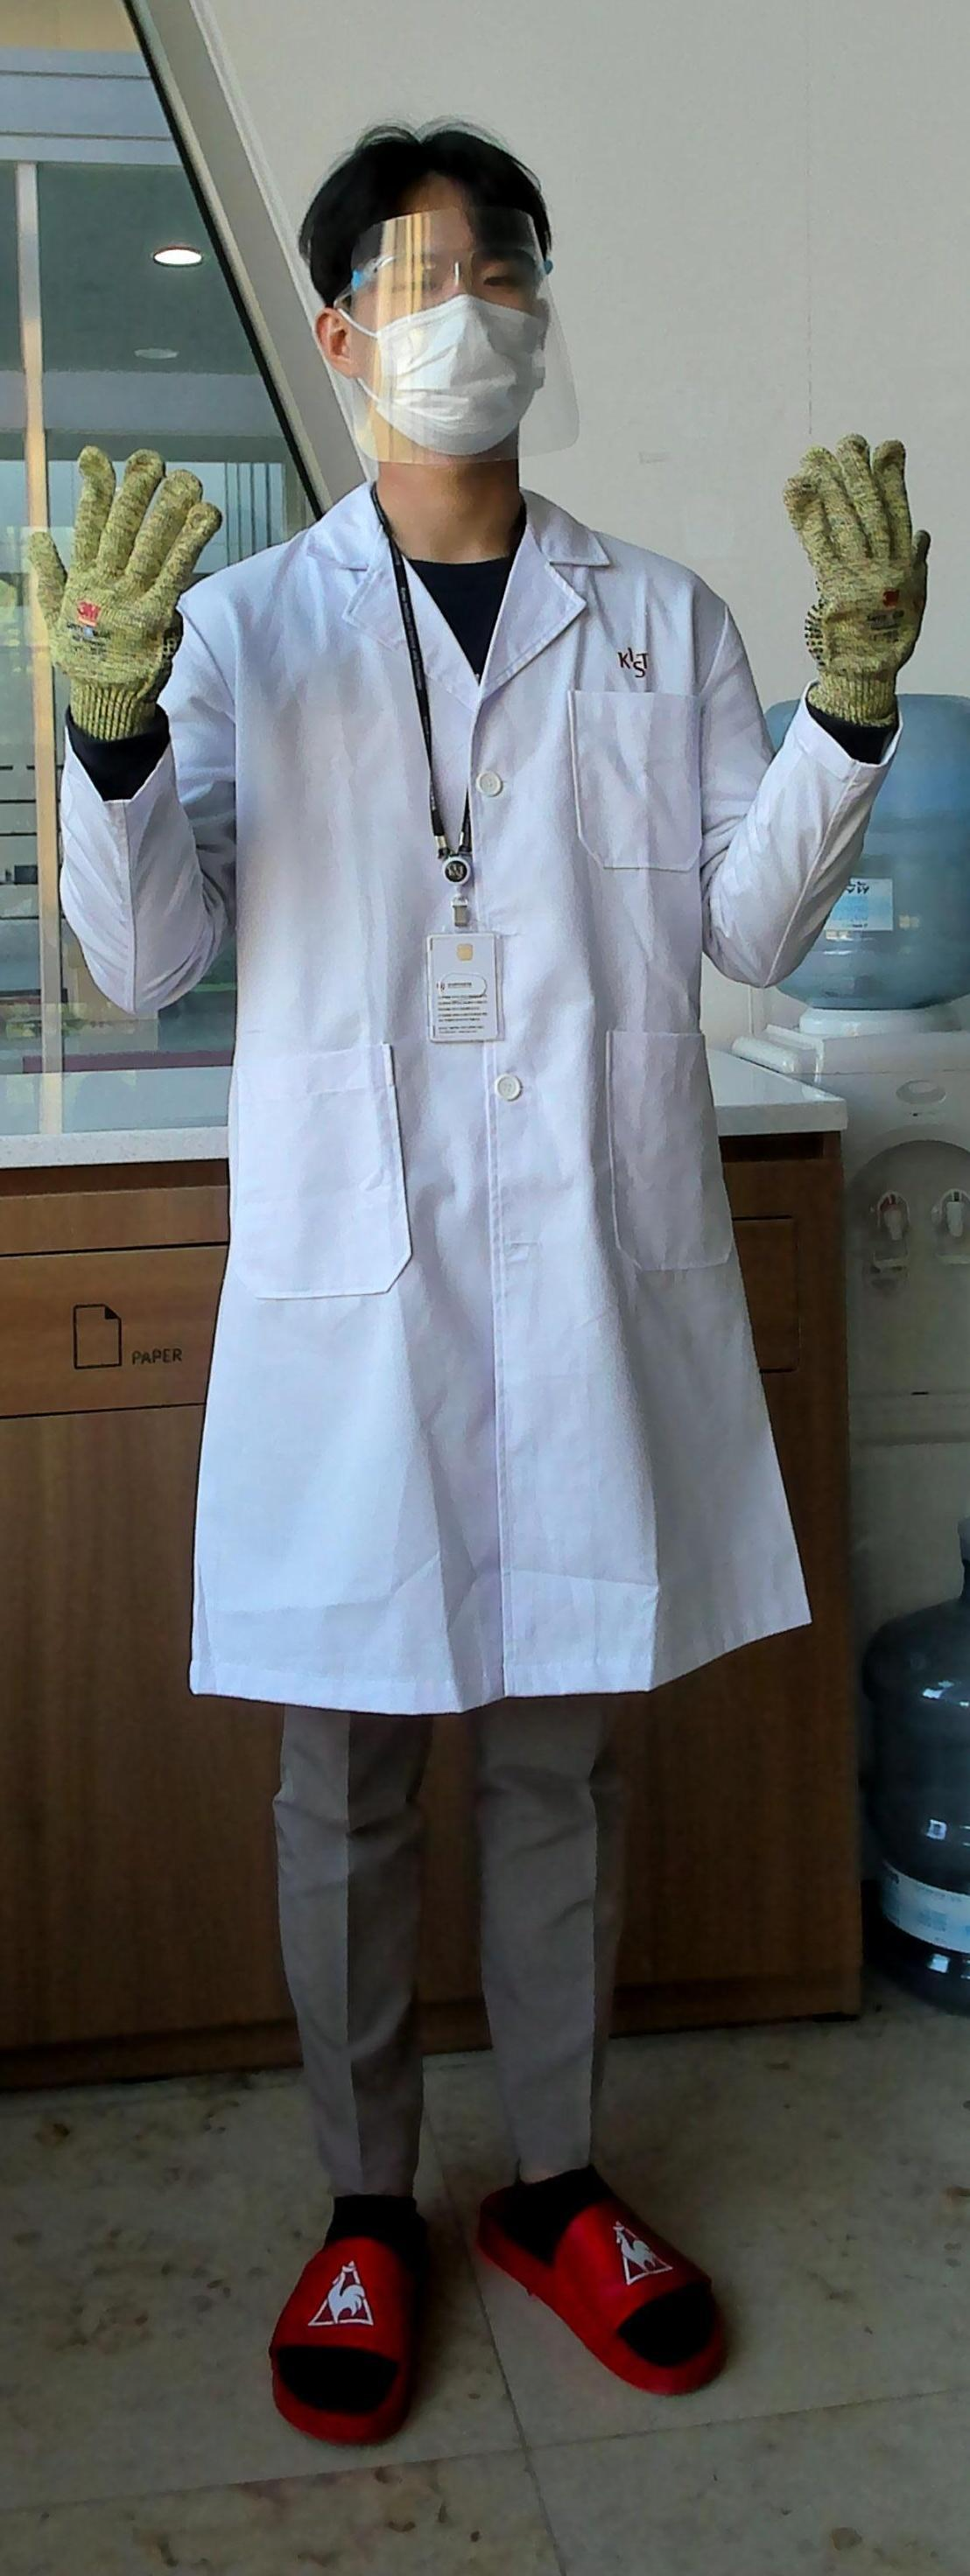lab_coat: (215, 552, 764, 1704)
